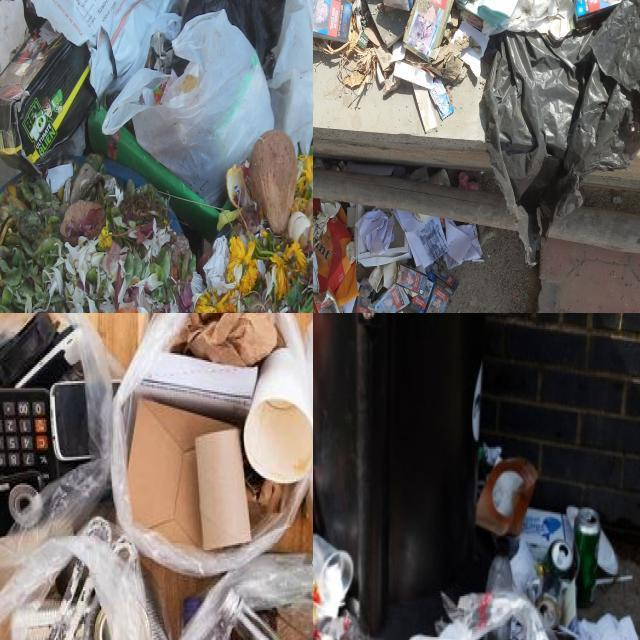Background: (313, 60, 489, 175)
Cig_pack: (404, 0, 454, 61), (410, 263, 459, 313), (313, 0, 352, 43), (369, 284, 410, 313), (574, 0, 621, 22), (430, 263, 459, 296), (397, 265, 427, 294), (411, 280, 434, 313), (425, 286, 449, 313), (313, 290, 341, 313), (461, 9, 483, 31), (397, 267, 415, 288), (356, 296, 370, 313), (428, 277, 431, 279)
Disposable: (313, 534, 352, 615)
E-Waste: (0, 313, 80, 537), (0, 313, 90, 462)
Garbage: (0, 0, 313, 313), (313, 0, 640, 263), (119, 313, 313, 569), (412, 458, 639, 640), (0, 313, 117, 561), (313, 199, 482, 313), (0, 551, 133, 640)
Glass_bottle: (205, 556, 313, 640)
Metal: (10, 558, 113, 640), (84, 521, 138, 570), (147, 589, 169, 640)
Plastic_Bag: (485, 0, 640, 265), (103, 11, 274, 205), (31, 0, 181, 97), (182, 0, 285, 79), (268, 0, 313, 152), (456, 593, 557, 640)
Plastic_wraper: (430, 78, 454, 120)
Tetrapack: (383, 0, 414, 11)
can: (574, 508, 601, 607), (537, 547, 564, 628), (486, 555, 514, 592), (548, 540, 574, 576)
contaminated_waste: (0, 313, 313, 640), (0, 321, 90, 533), (10, 567, 111, 640)
